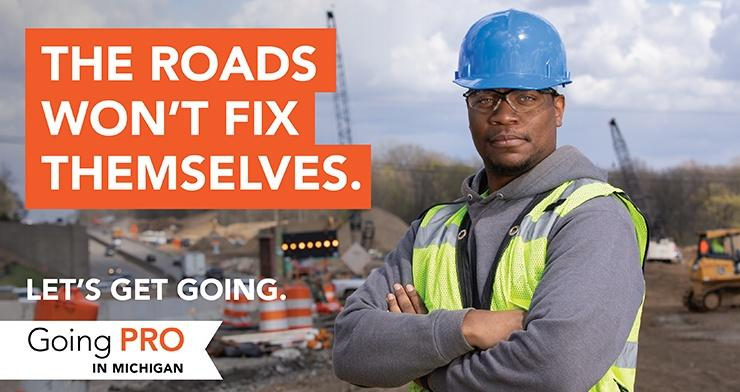helmet: (454, 7, 575, 91)
